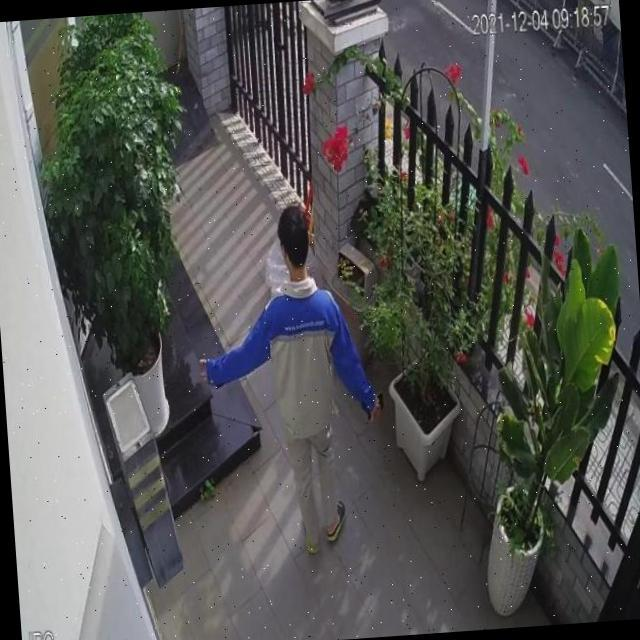person: (191, 205, 389, 563)
